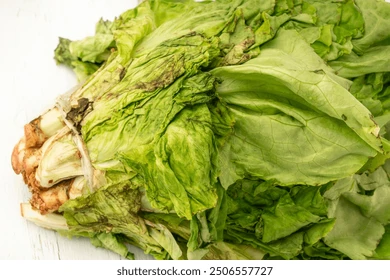lettuce rotten: (19, 28, 314, 245)
